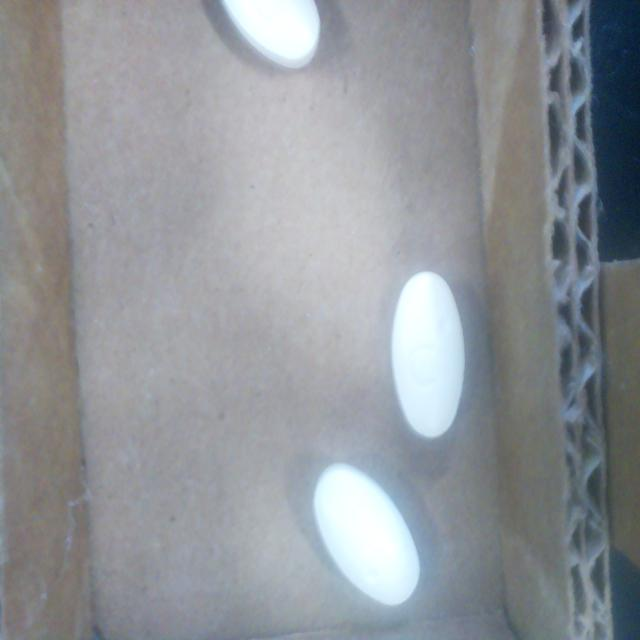pill: (313, 464, 420, 606), (391, 272, 465, 438), (221, 0, 320, 68)
